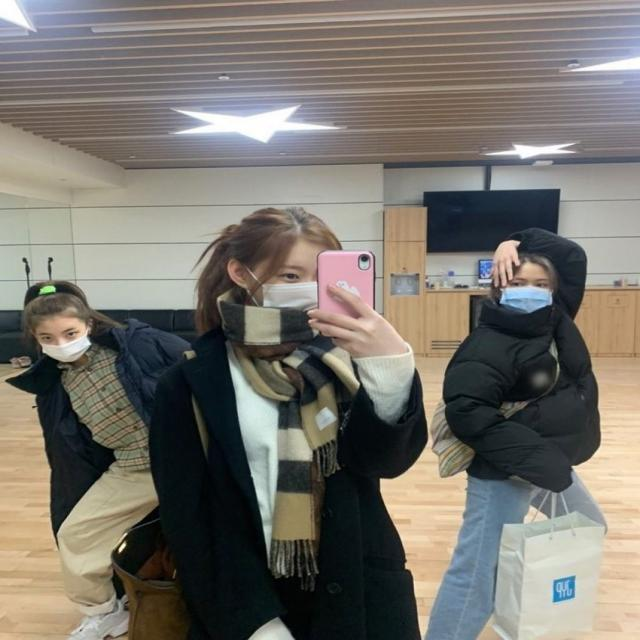phone: (318, 250, 374, 338)
